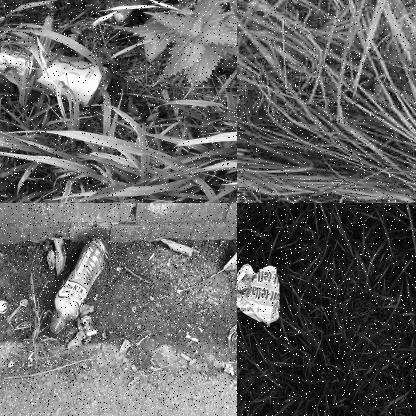plastic: (0, 39, 117, 111), (50, 233, 110, 334), (237, 144, 289, 202), (237, 264, 282, 326)
